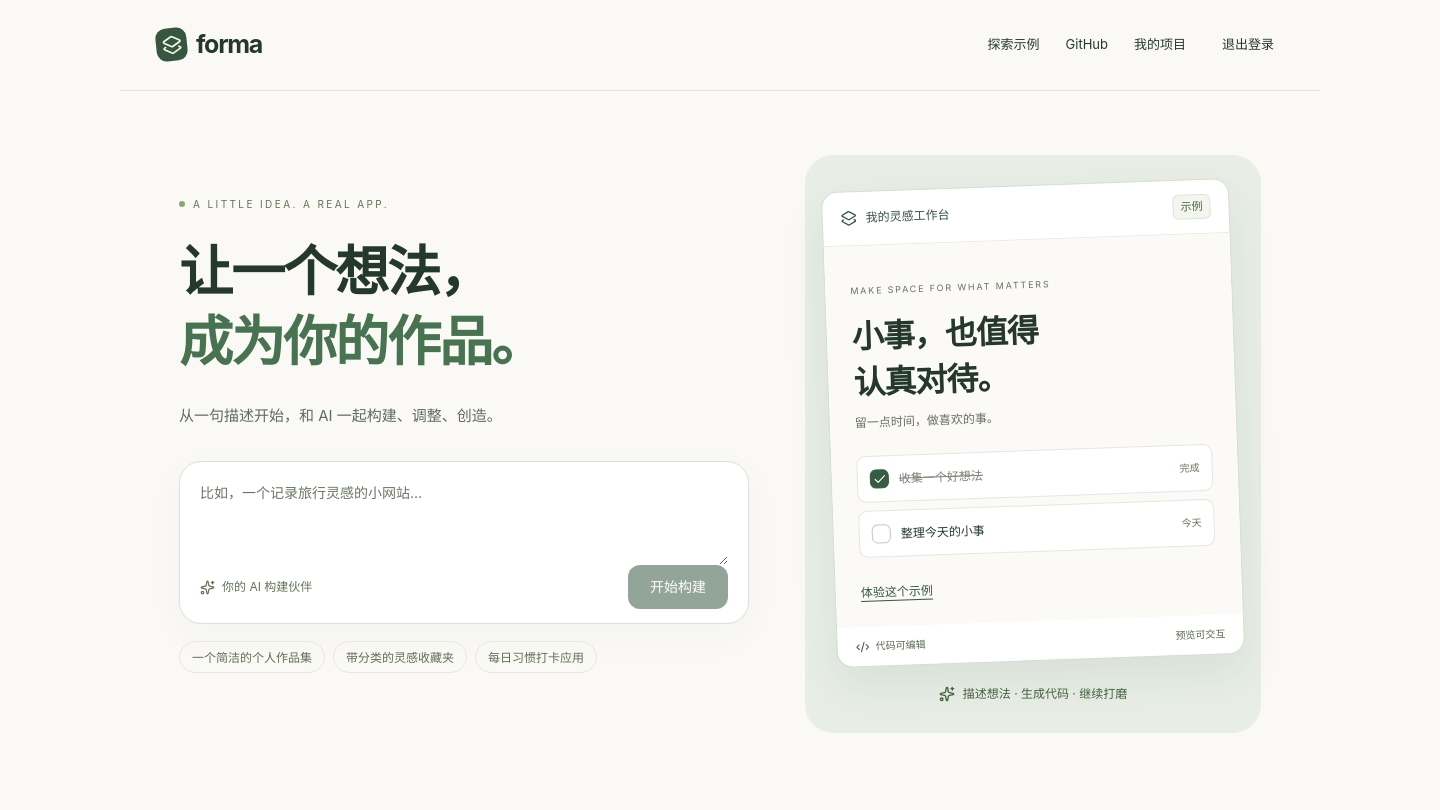
Test: keeps the draft and unlocks after a create error
The width and height of the screenshot is (1440, 810).
Type "保存需求" into the text box.
click(464, 524); type("保存需求")  # box [200,482,728,565]
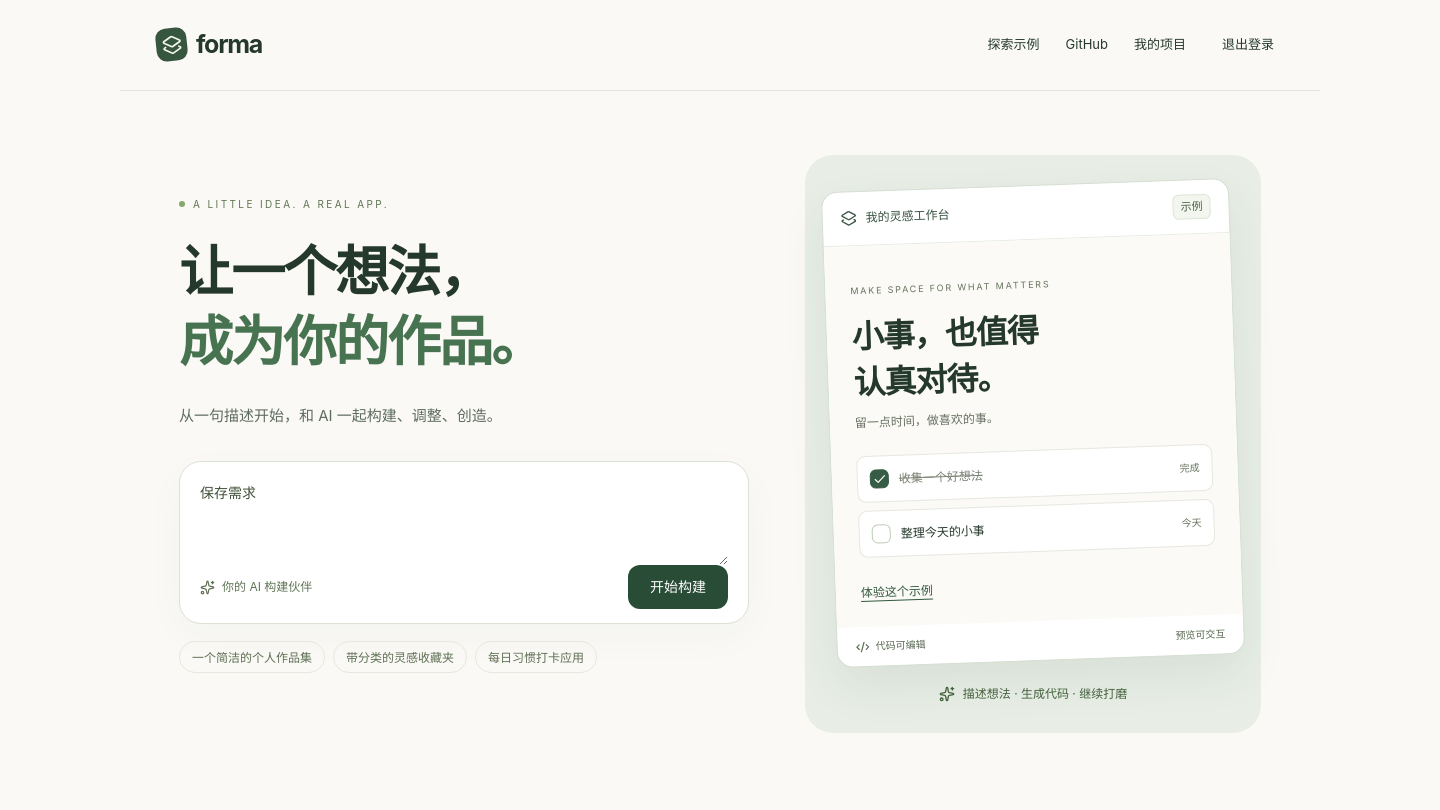
Click the button "开始构建".
click(678, 587)  # box [628,565,728,609]
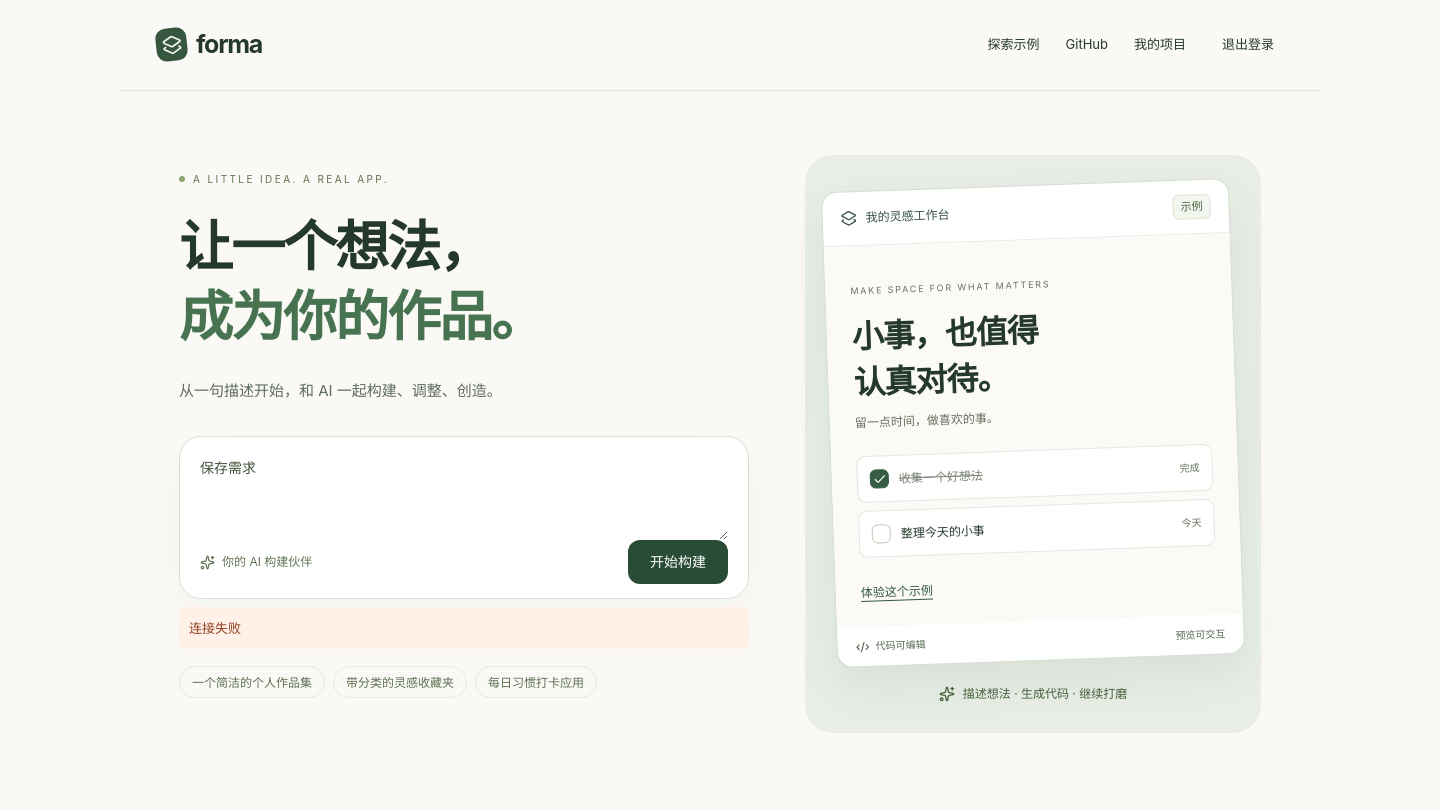
expect the button "开始构建" is enabled: met, box [628,540,728,584]
expect the message reads "连接失败": met, box [189,620,241,636]
